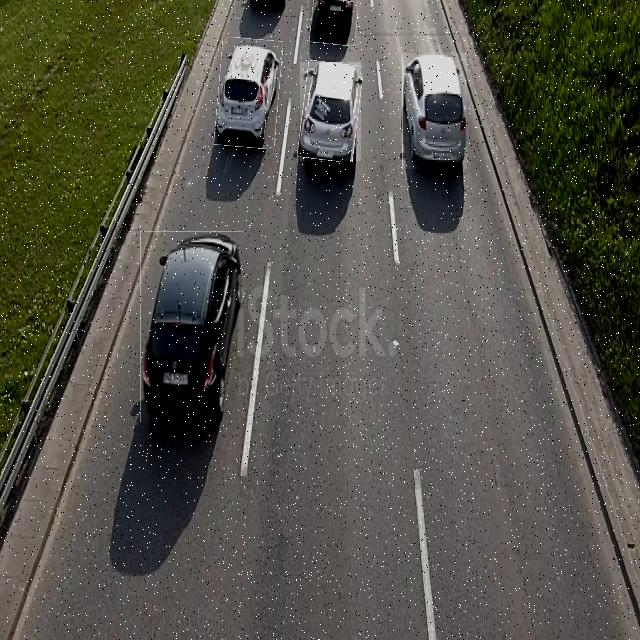Car: (140, 231, 243, 422), (402, 53, 467, 169), (217, 38, 281, 148), (300, 62, 361, 161), (310, 0, 356, 44)
